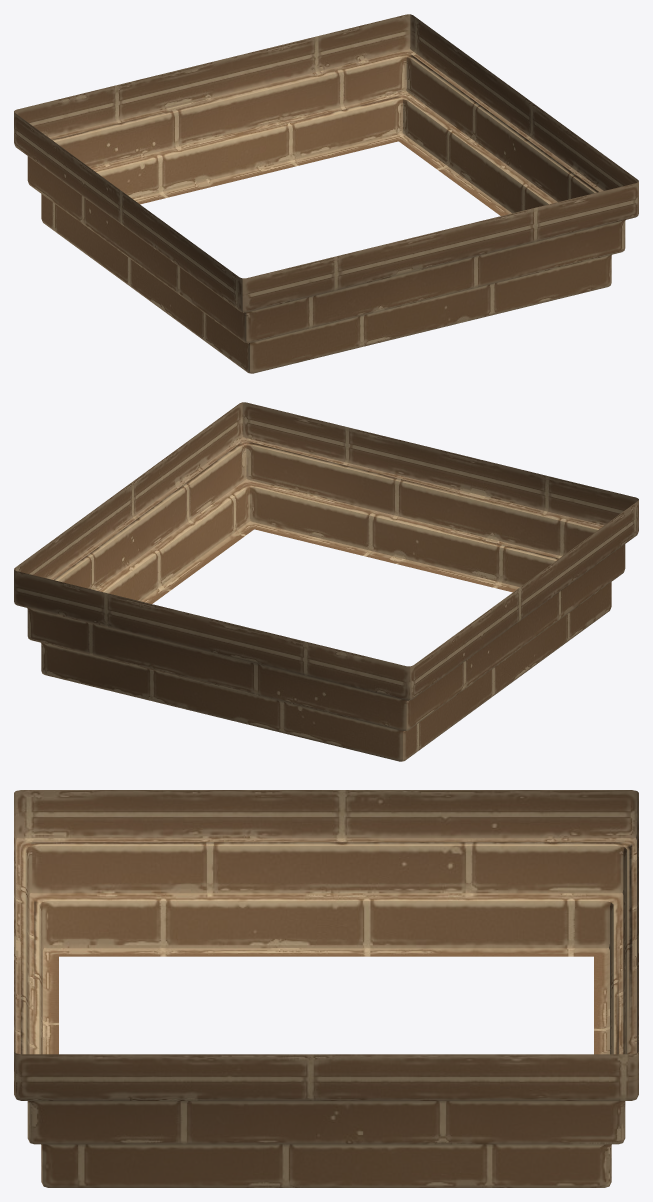
Rendered from column_capital.glb.
3 renders of one model, top to bottom at view 1: azimuth 30°, elevation 25°; view 2: azimuth 150°, elevation 25°; view 3: azimuth 270°, elevation 25°, orthographic. The views are drawn at different scales.
Visible parts, largest first — view 1: column_capital; view 2: column_capital; view 3: column_capital.
Part boxes in pixels (left/top/right/bottom): column_capital: left=14, top=14, right=638, bottom=373; column_capital: left=14, top=402, right=638, bottom=761; column_capital: left=14, top=790, right=638, bottom=1187.
Size of the model in its own units: 2.3 by 0.6 by 2.3.
Materials: 1 (1 with a texture image).
